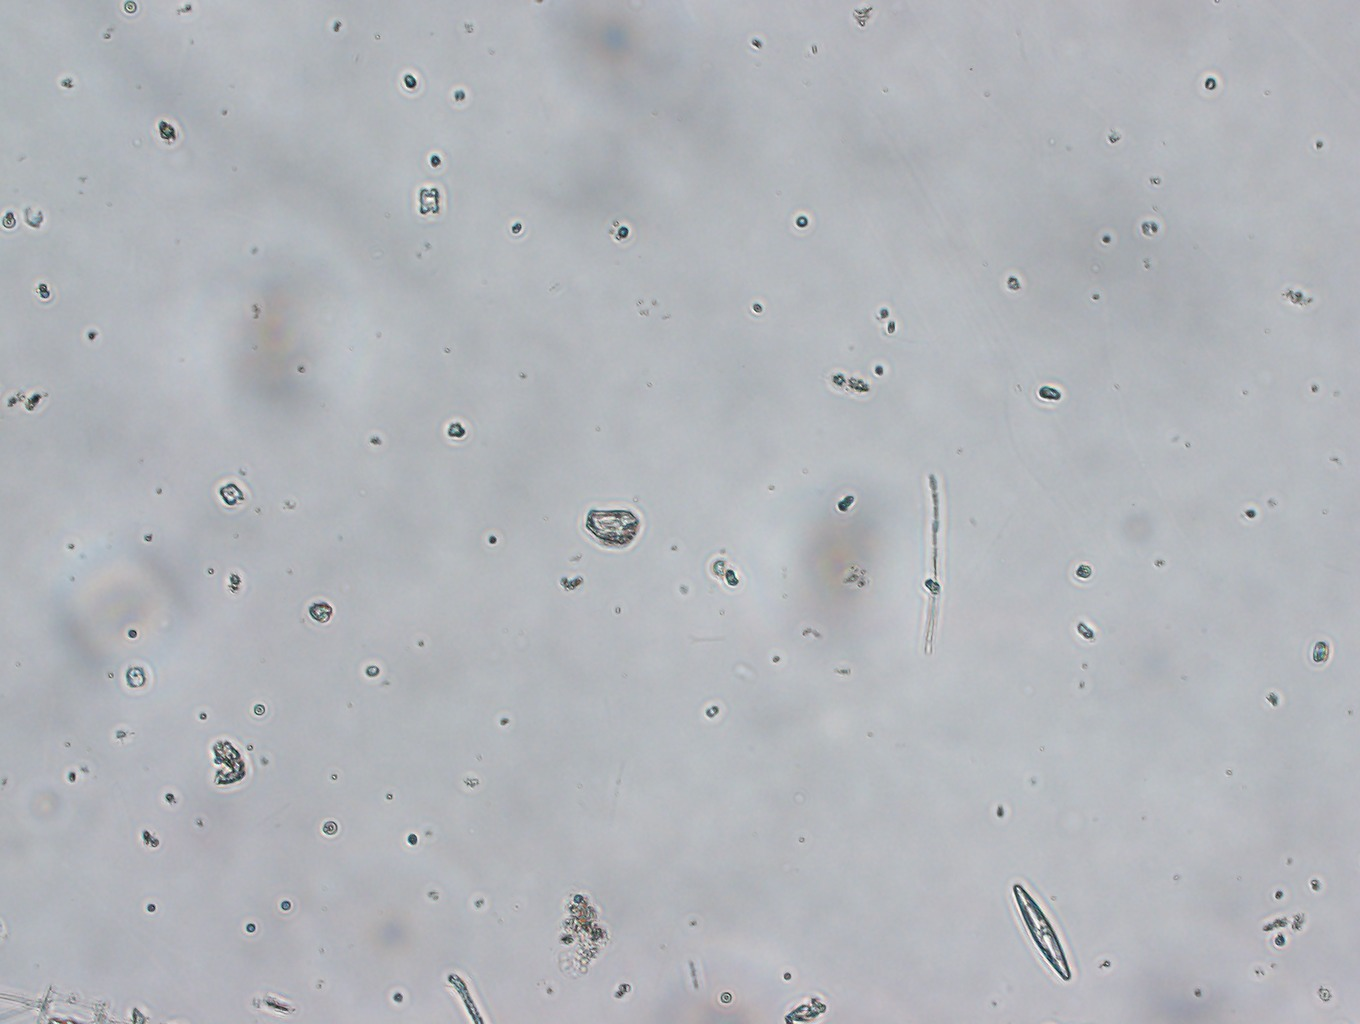navicula: (1007, 882, 1077, 985)
